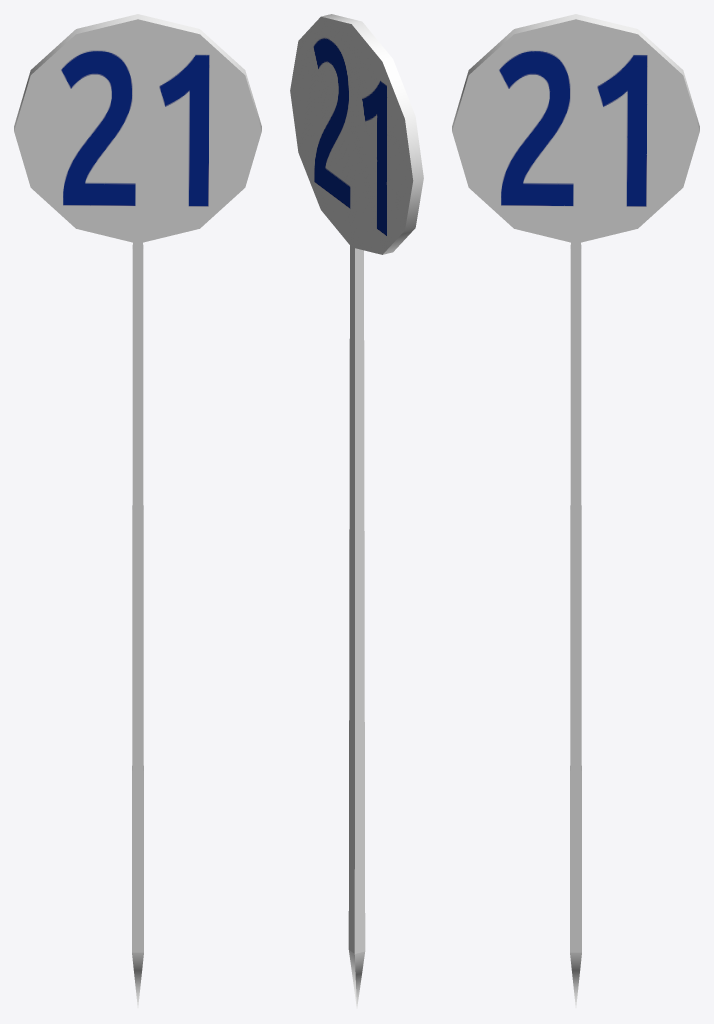
File: Marker_Shot_Put_21.FBX
The picture shows the model from 3 angles, left to right: view 1: azimuth 90°, elevation 25°; view 2: azimuth 210°, elevation 25°; view 3: azimuth 270°, elevation 25°; orthographic projection.
Visible parts, largest first — view 1: Marker_Shot_Put_21; view 2: Marker_Shot_Put_21; view 3: Marker_Shot_Put_21.
Part boxes in pixels (x1,y1,x2,y2): Marker_Shot_Put_21: (14,14,261,1007); Marker_Shot_Put_21: (290,14,423,1008); Marker_Shot_Put_21: (452,14,699,1007).
Bounding box in the file's own units: 0.1115 × 9.84 × 2.22.
